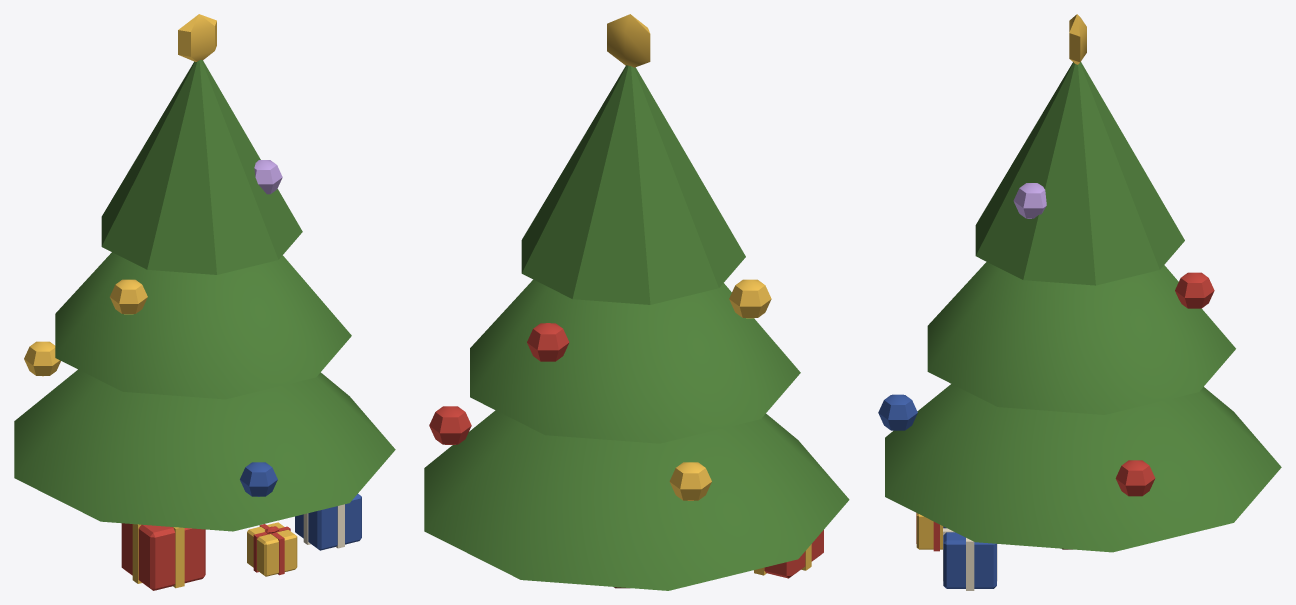
The model's file is PR_Decor_SusluCam.fbx.
3 renders of one model, left to right at view 1: azimuth 30°, elevation 25°; view 2: azimuth 150°, elevation 25°; view 3: azimuth 270°, elevation 25°, orthographic. The views are drawn at different scales.
Parts seen in each view (by area): view 1: PR_Decor_SusluCam; view 2: PR_Decor_SusluCam; view 3: PR_Decor_SusluCam.
Boxes of the visible parts, bbox=[...] form: PR_Decor_SusluCam: bbox=[14, 14, 395, 590]; PR_Decor_SusluCam: bbox=[424, 14, 849, 590]; PR_Decor_SusluCam: bbox=[878, 14, 1281, 590].
Size of the model in its own units: 1.21 by 1.74 by 1.21.
1 material, 1 textured.
